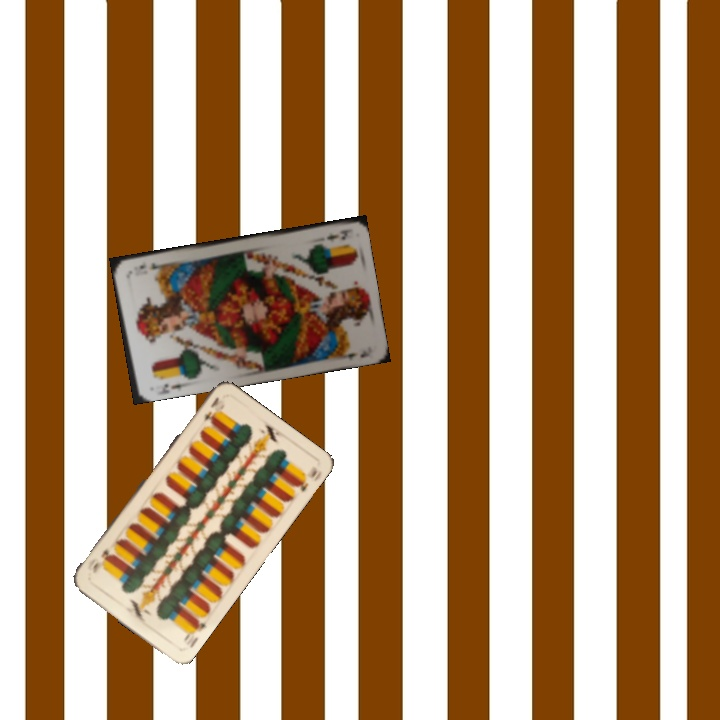E10: (180, 615, 209, 651), (199, 393, 222, 424)
EK: (153, 379, 187, 396), (323, 225, 352, 244)
